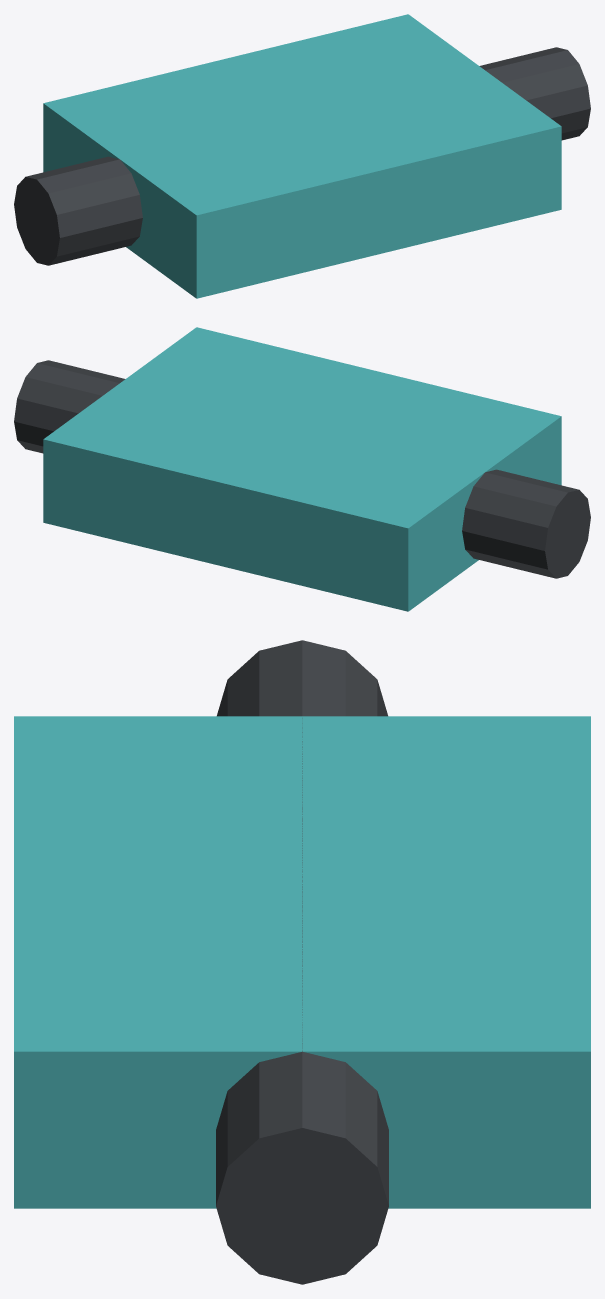
The picture shows the model from 3 angles, top to bottom: view 1: azimuth 30°, elevation 25°; view 2: azimuth 150°, elevation 25°; view 3: azimuth 270°, elevation 25°; orthographic projection. The views are drawn at different scales.
Visible parts, largest first — view 1: geometry_0; view 2: geometry_0; view 3: geometry_0.
Part boxes in pixels (left/top/right/bottom): geometry_0: left=14, top=14, right=590, bottom=298; geometry_0: left=14, top=327, right=590, bottom=611; geometry_0: left=14, top=640, right=590, bottom=1284.
Bounding box in the file's own units: 0.08 × 0.012 × 0.04.
